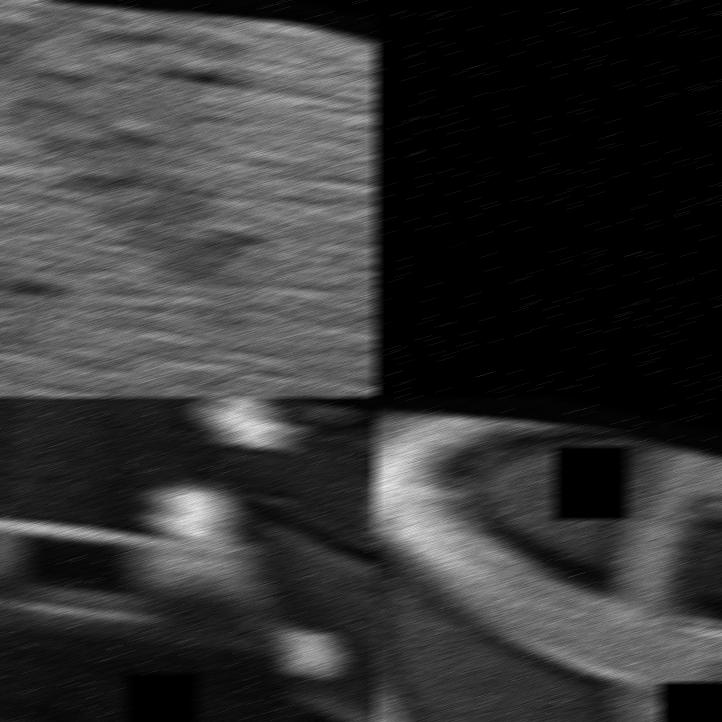Airbag: (0, 0, 377, 396), (0, 397, 377, 721), (373, 397, 722, 721)
